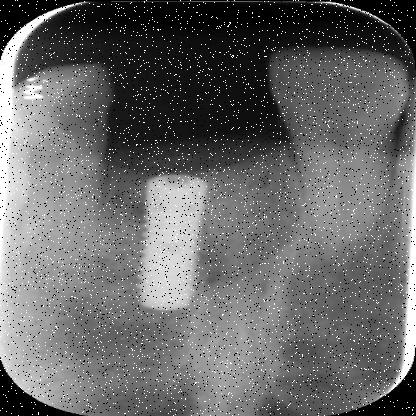ITI: (132, 171, 212, 314)
